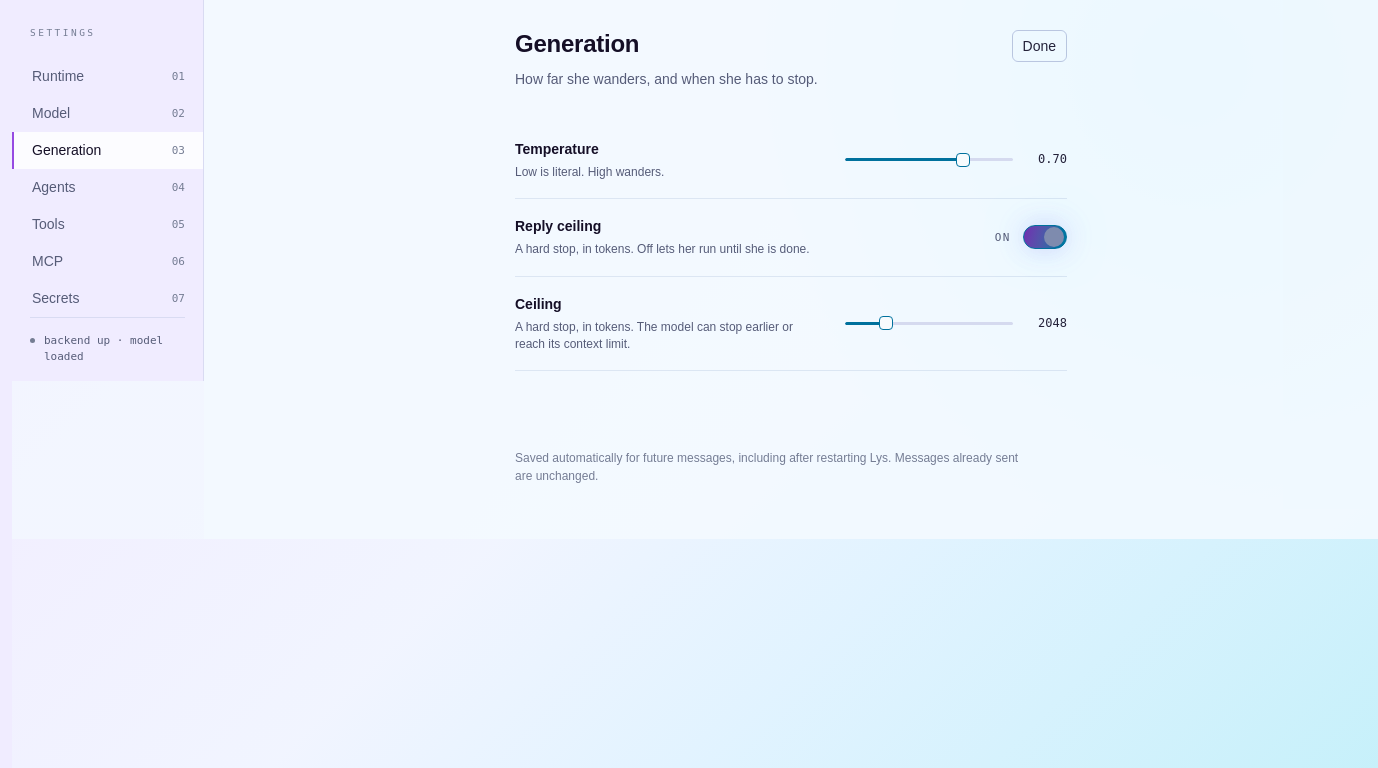
Test: GenerationPaneContent › announces a failed save, keeps the edit, and retries on request
Expected: the switch named "Reply ceiling" is shown, [1023,225,1067,249]
Press ArrowLeft in the slider labelled "Temperature", box [957,154,969,166]
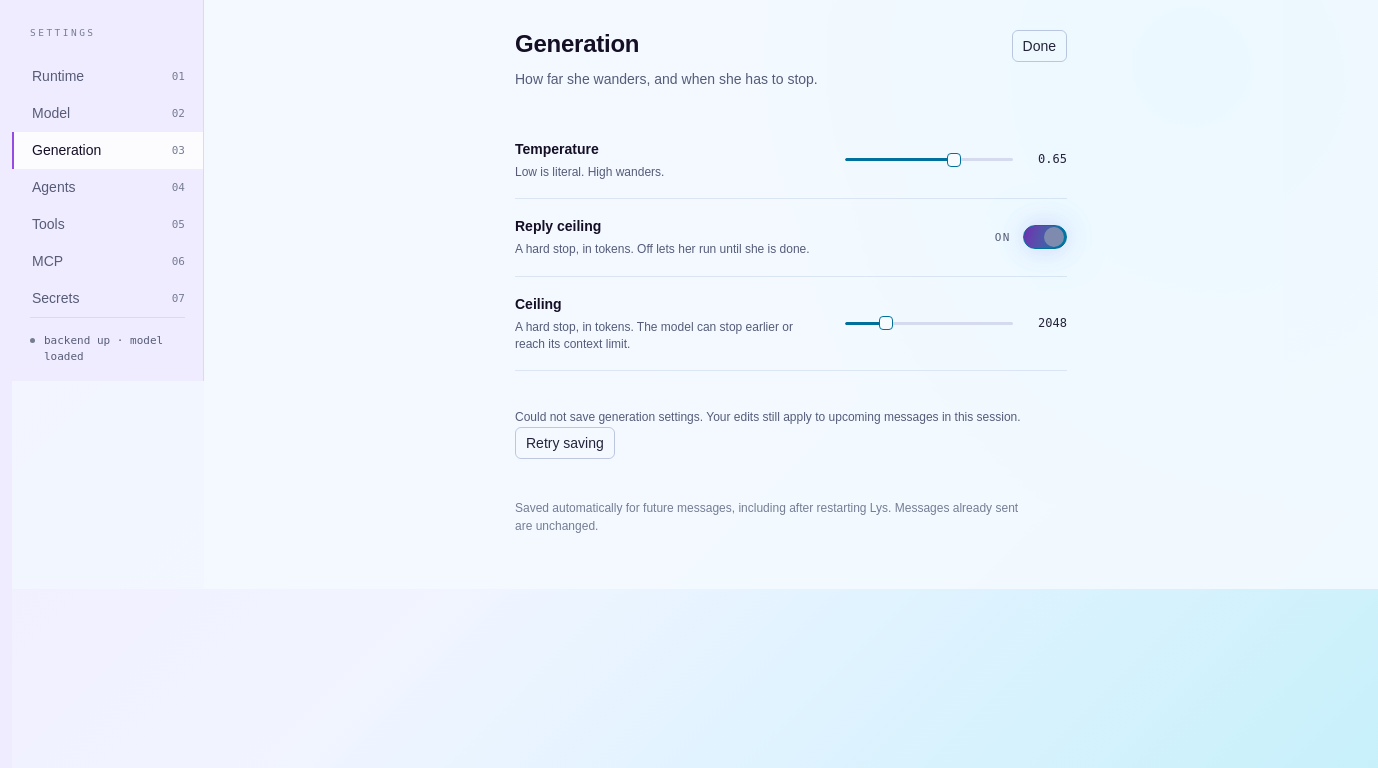
Expected: the message named "Generation settings save" shows "Could not save generation settings. Your edits still apply to upcoming messages in this session.", [515,410,1021,424]
Click the button "Retry saving" at (565, 443), box [515,427,615,459]
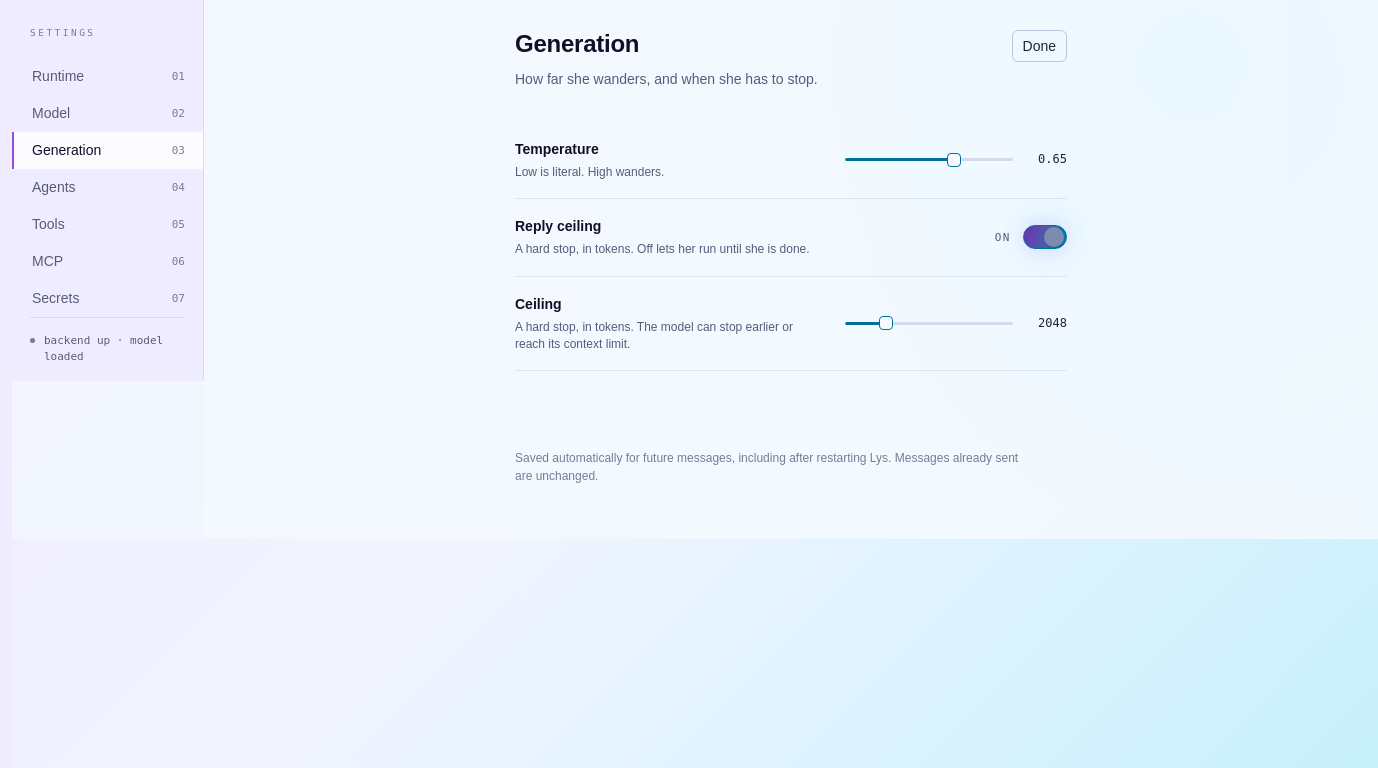
Expected: the message named "Generation settings save" is empty, [515,397,1067,409]
Expected: the button "Retry saving" is gone
